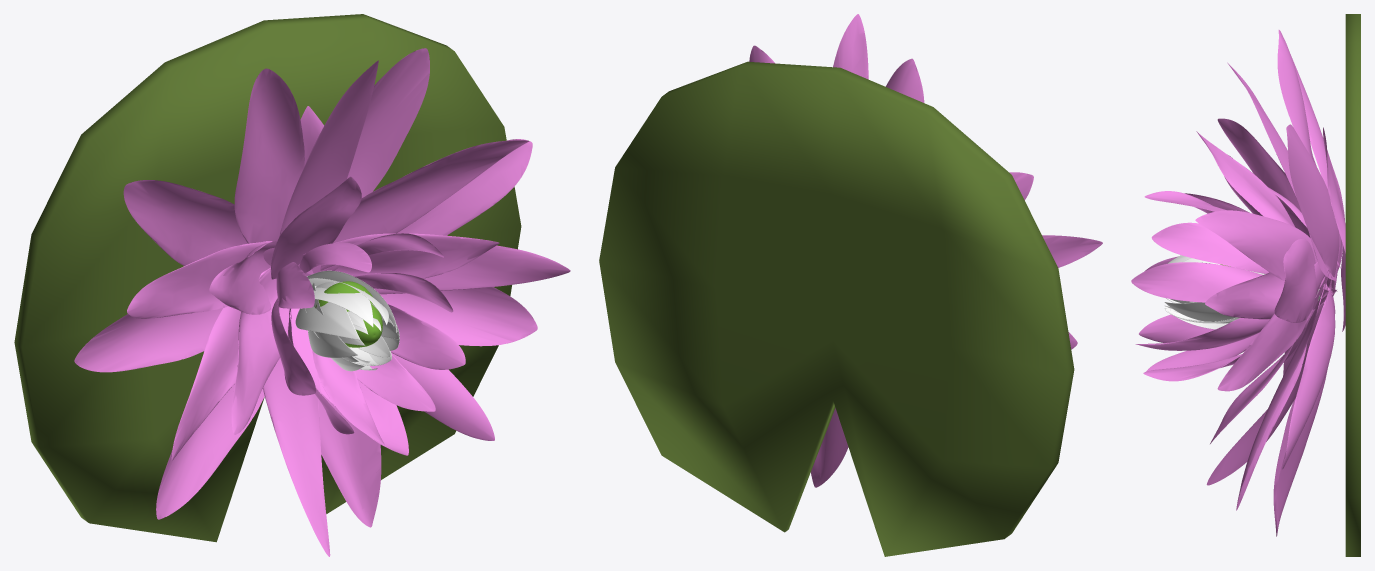
Rendered from lilypad.glb.
3 views of the same model, side by side, from view 1: azimuth 30°, elevation 25°; view 2: azimuth 150°, elevation 25°; view 3: azimuth 270°, elevation 25° (orthographic). The views are drawn at different scales.
Visible parts, largest first — view 1: Plane, Plane009_Material #26_0, Plane017_Material #26_0, Plane015_Material #26_0, Plane016_Material #26_0, Plane014_Material #26_0, Plane020_Material #26_0, Plane011_Material #26_0, Plane006_Material #26_0, Plane013_Material #26_0, Plane022_Material #26_0, Plane012_Material #26_0 (+24 smaller); view 2: Plane, Plane012_Material #26_0, Plane006_Material #26_0, Plane022_Material #26_0, Plane009_Material #26_0; view 3: Plane, Plane017_Material #26_0, Plane016_Material #26_0, Plane038_Material #26_0, Plane011_Material #26_0, Plane018_Material #26_0, Plane030_Material #26_0, Plane010_Material #26_0, Plane025_Material #26_0, Plane019_Material #26_0, Plane024_Material #26_0, Plane022_Material #26_0 (+17 smaller).
Boxes of the visible parts, x1,y1,x2,y2 form: Plane: (14,14,521,542); Plane009_Material #26_0: (234,68,304,243); Plane017_Material #26_0: (298,140,528,275); Plane015_Material #26_0: (123,180,247,265); Plane016_Material #26_0: (347,48,429,197); Plane014_Material #26_0: (74,308,222,372); Plane020_Material #26_0: (262,358,330,556); Plane011_Material #26_0: (380,287,537,346); Plane006_Material #26_0: (279,60,378,236); Plane013_Material #26_0: (156,383,264,519); Plane022_Material #26_0: (127,241,274,318); Plane012_Material #26_0: (319,393,381,527); Plane: (599,61,1074,556); Plane012_Material #26_0: (811,408,848,487); Plane006_Material #26_0: (833,14,868,79); Plane022_Material #26_0: (1042,235,1102,267); Plane009_Material #26_0: (885,58,924,102); Plane: (1345,14,1360,556); Plane017_Material #26_0: (1195,210,1317,281); Plane016_Material #26_0: (1286,124,1339,276); Plane038_Material #26_0: (1131,262,1262,302); Plane011_Material #26_0: (1282,287,1335,469); Plane018_Material #26_0: (1217,262,1324,391); Plane030_Material #26_0: (1151,222,1332,292); Plane010_Material #26_0: (1274,239,1316,322); Plane025_Material #26_0: (1205,272,1325,319); Plane019_Material #26_0: (1236,271,1329,510); Plane024_Material #26_0: (1196,131,1329,291); Plane022_Material #26_0: (1217,118,1301,212).
Size of the model in its own units: 1.02 by 0.9911 by 0.4303.
